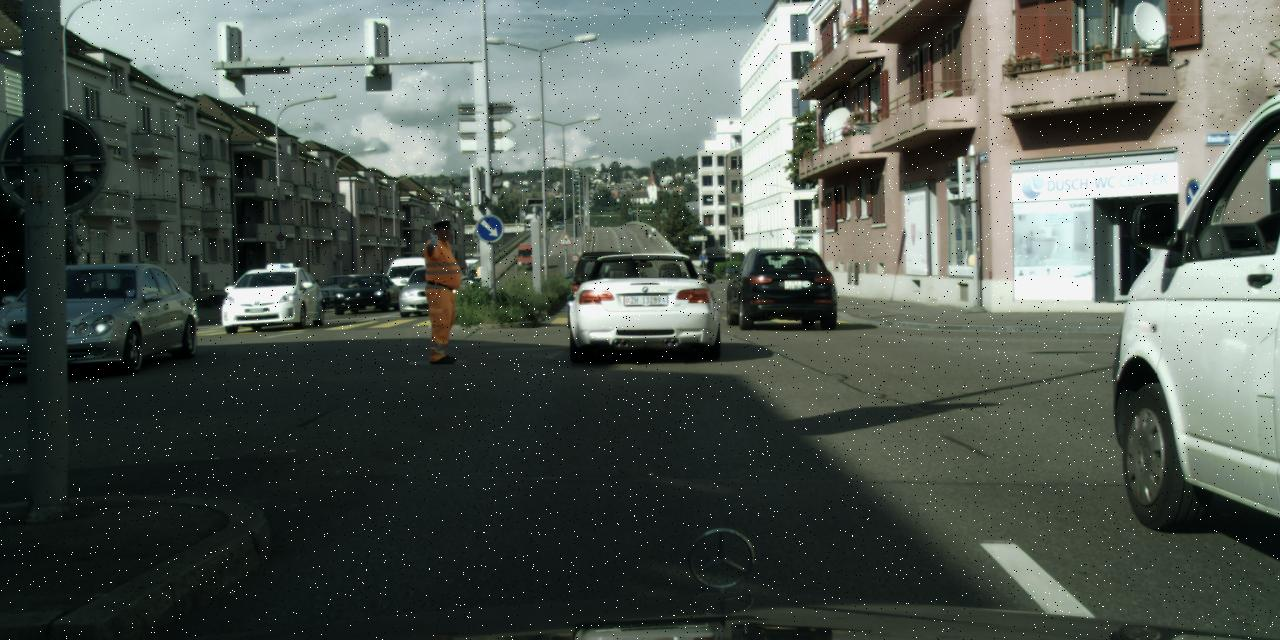ped: (412, 219, 470, 363), (644, 226, 648, 237), (651, 226, 655, 236), (648, 232, 651, 240)
